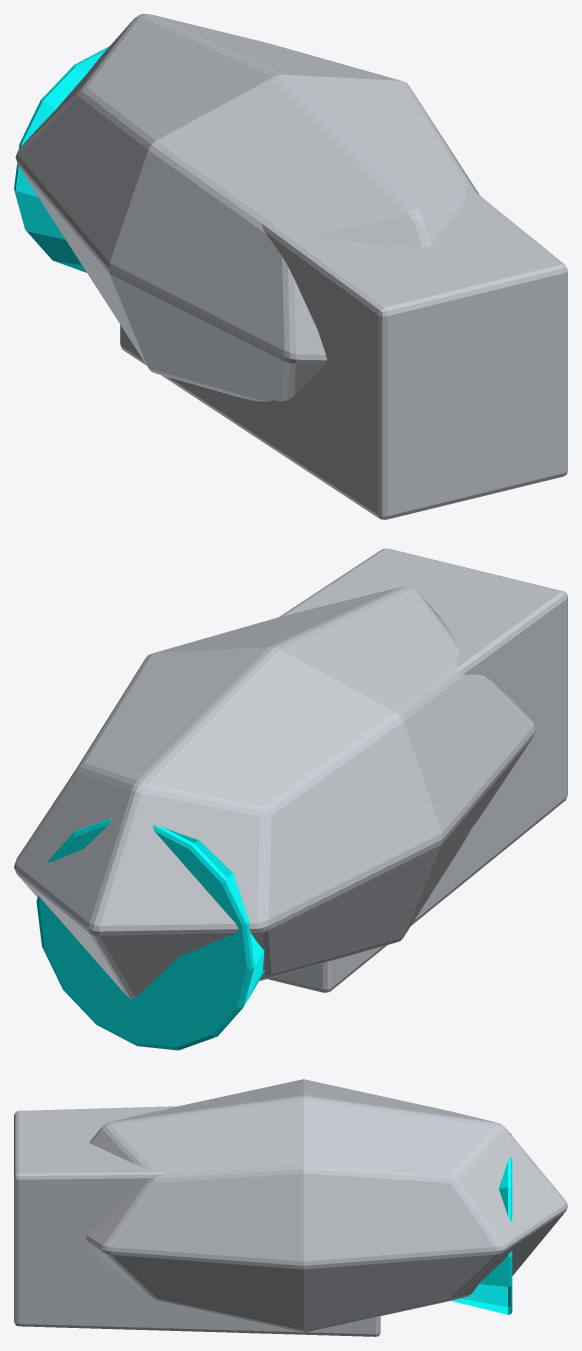
The picture shows the model from 3 angles, top to bottom: view 1: azimuth 30°, elevation 25°; view 2: azimuth 150°, elevation 25°; view 3: azimuth 270°, elevation 25°; orthographic projection. The views are drawn at different scales.
Parts seen in each view (by area): view 1: part_00_gltf_export_temp; view 2: part_00_gltf_export_temp; view 3: part_00_gltf_export_temp.
Boxes of the visible parts, x1=… form: part_00_gltf_export_temp: x1=14, y1=14, x2=567, y2=519; part_00_gltf_export_temp: x1=14, y1=548, x2=567, y2=1050; part_00_gltf_export_temp: x1=14, y1=1079, x2=567, y2=1336.
Bounding box in the file's own units: 0.7161 × 0.6111 × 1.4.
